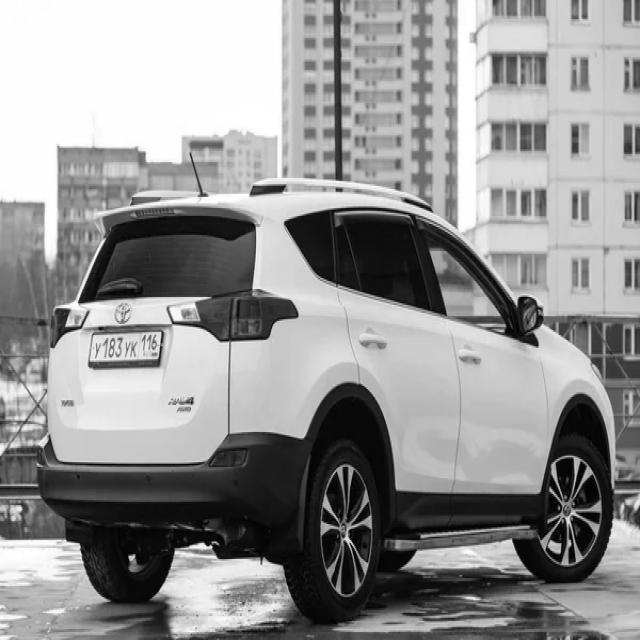Car: (38, 178, 616, 624)
